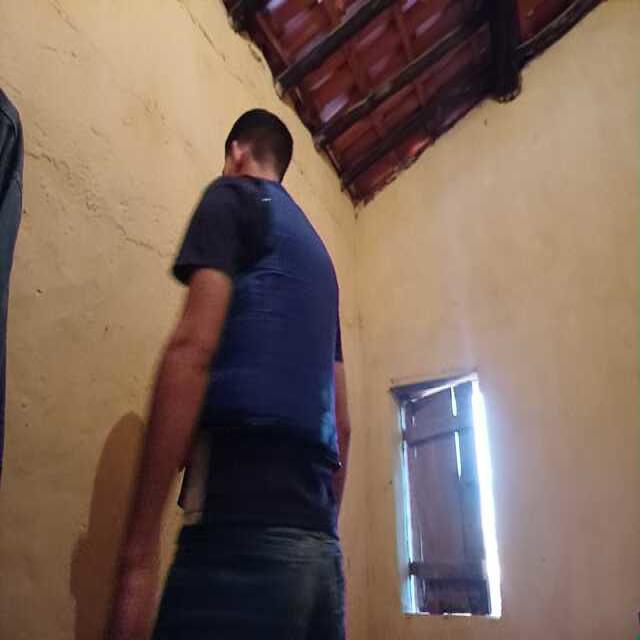colete: (198, 167, 350, 468)
pessoa: (107, 101, 350, 640)
